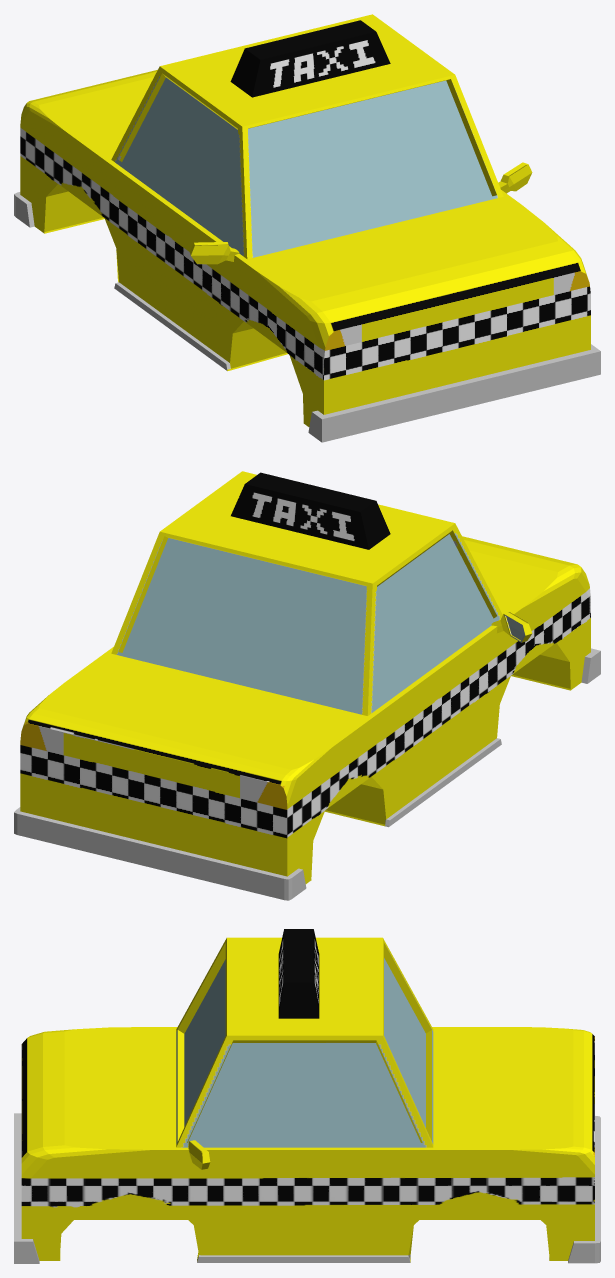
Rendered from taxi.fbx.
3 views of the same model, one above another, from view 1: azimuth 30°, elevation 25°; view 2: azimuth 150°, elevation 25°; view 3: azimuth 270°, elevation 25° (orthographic). The views are drawn at different scales.
Parts seen in each view (by area): view 1: Body; view 2: Body; view 3: Body.
Boxes of the visible parts, left/top/right/bottom form: Body: left=14, top=14, right=600, bottom=442; Body: left=14, top=471, right=600, bottom=900; Body: left=14, top=929, right=600, bottom=1263.
Bounding box in the file's own units: 380 × 274 × 598.
Materials: 1 (1 with a texture image).
